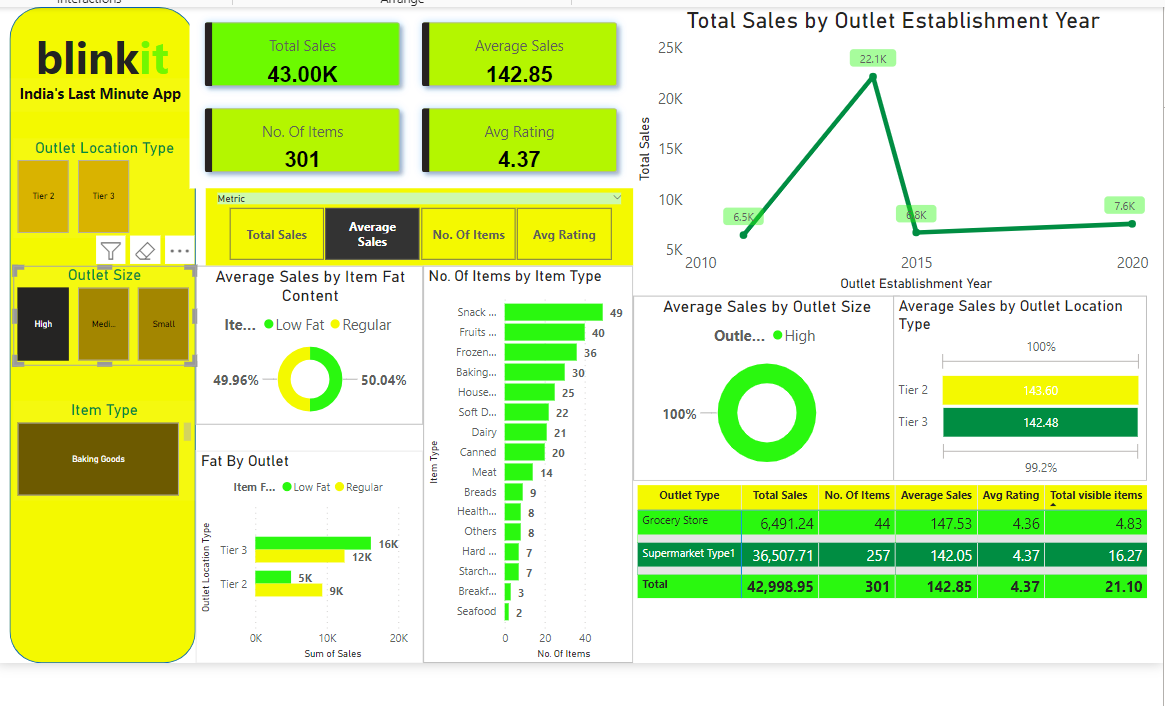

Layout of this report page (visuals, bound fields, positions):
{"tool":"powerbi","page":{"name":"Page 1","canvas":[1280,720],"ordinal":0},"visuals":[{"type":"shape","box":[13.7,0,204.5,720.4],"z":0},{"type":"textbox","box":[30.2,16.5,170.2,74.1],"z":1000},{"type":"textbox","box":[11,78.2,204.5,37],"z":2000},{"type":"cardVisual","fields":{"Data":["BlinkIT Grocery Data.Total Sales","BlinkIT Grocery Data.Average Sales","BlinkIT Grocery Data.No. Of Items","BlinkIT Grocery Data.Avg Rating"]},"box":[211.3,0,487.1,199],"z":3000},{"type":"donutChart","fields":{"Y":["BlinkIT Grocery Data.Average Sales"],"Category":["BlinkIT Grocery Data.Item Fat Content"]},"box":[218.2,284,249.7,174.3],"z":4000},{"type":"slicer","fields":{"Values":["Metric.Metric"]},"box":[229.2,199,469.3,85.1],"z":5000},{"type":"clusteredBarChart","title":"Fat By Outlet","fields":{"Y":["Sum(BlinkIT Grocery Data.Sales)"],"Category":["BlinkIT Grocery Data.Outlet Location Type"],"Series":["BlinkIT Grocery Data.Item Fat Content"]},"box":[218.2,487.1,249.7,233.3],"z":6000},{"type":"clusteredBarChart","fields":{"Y":["BlinkIT Grocery Data.No. Of Items"],"Category":["BlinkIT Grocery Data.Item Type"]},"box":[467.9,284,230.5,436.4],"z":7000},{"type":"lineChart","fields":{"Y":["BlinkIT Grocery Data.Total Sales"],"Category":["BlinkIT Grocery Data.Outlet Establishment Year"]},"box":[698.5,0,570.8,317],"z":8000},{"type":"donutChart","fields":{"Y":["BlinkIT Grocery Data.Average Sales"],"Category":["BlinkIT Grocery Data.Outlet Size"]},"box":[698.5,317,292.3,203.1],"z":9000},{"type":"funnel","fields":{"Y":["BlinkIT Grocery Data.Average Sales"],"Category":["BlinkIT Grocery Data.Outlet Location Type"]},"box":[983.9,317,278.6,203.1],"z":10000},{"type":"pivotTable","fields":{"Values":["BlinkIT Grocery Data.Total Sales","BlinkIT Grocery Data.No. Of Items","BlinkIT Grocery Data.Average Sales","BlinkIT Grocery Data.Avg Rating","Sum(BlinkIT Grocery Data.Item Visibility)"],"Rows":["BlinkIT Grocery Data.Outlet Type"]},"box":[698.5,520.1,581.8,200.3],"z":11000},{"type":"advancedSlicerVisual","fields":{"Values":["BlinkIT Grocery Data.Outlet Size"]},"box":[17.8,284,200.3,109.8],"z":12000},{"type":"advancedSlicerVisual","fields":{"Values":["BlinkIT Grocery Data.Outlet Location Type"]},"box":[17.8,144.1,200.3,109.8],"z":13000},{"type":"advancedSlicerVisual","fields":{"Values":["BlinkIT Grocery Data.Item Type"]},"box":[17.8,432.2,200.3,109.8],"z":13001}]}

Visuals, with their boxes on the page's 1280x720 design canvas (x1, y1, x2, y2). These are canvas units, not pixel positions in the 1165x706 screenshot, which may show the page scaled, cropped or inside an application window:
shape: 14/0/218/720
textbox: 30/16/200/91
textbox: 11/78/216/115
cardVisual - BlinkIT Grocery Data.Total Sales x BlinkIT Grocery Data.Average Sales: 211/0/698/199
donutChart - BlinkIT Grocery Data.Average Sales x BlinkIT Grocery Data.Item Fat Content: 218/284/468/458
slicer - Metric.Metric: 229/199/698/284
"Fat By Outlet" clusteredBarChart: 218/487/468/720
clusteredBarChart - BlinkIT Grocery Data.No. Of Items x BlinkIT Grocery Data.Item Type: 468/284/698/720
lineChart - BlinkIT Grocery Data.Total Sales x BlinkIT Grocery Data.Outlet Establishment Year: 698/0/1269/317
donutChart - BlinkIT Grocery Data.Average Sales x BlinkIT Grocery Data.Outlet Size: 698/317/991/520
funnel - BlinkIT Grocery Data.Average Sales x BlinkIT Grocery Data.Outlet Location Type: 984/317/1262/520
pivotTable - BlinkIT Grocery Data.Total Sales x BlinkIT Grocery Data.No. Of Items: 698/520/1280/720
advancedSlicerVisual - BlinkIT Grocery Data.Outlet Size: 18/284/218/394
advancedSlicerVisual - BlinkIT Grocery Data.Outlet Location Type: 18/144/218/254
advancedSlicerVisual - BlinkIT Grocery Data.Item Type: 18/432/218/542
